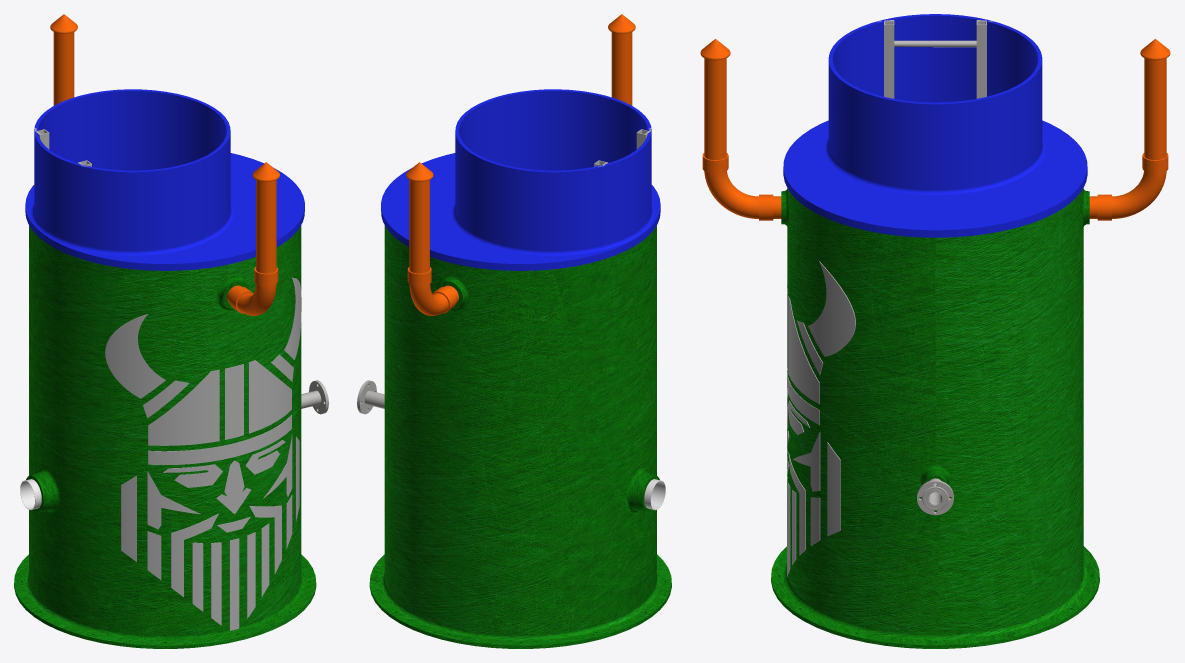
File: ECOWARD-KHC_1400-2700-2.glb
The picture shows the model from 3 angles, left to right: view 1: azimuth 30°, elevation 25°; view 2: azimuth 150°, elevation 25°; view 3: azimuth 270°, elevation 25°; orthographic projection. The views are drawn at different scales.
Visible parts, largest first — view 1: Твердое тело1 (×3), Твердое тело2 (×2), Твердое тело4, Solid1; view 2: Твердое тело1 (×2), Твердое тело2 (×2), Твердое тело4, Solid1; view 3: Твердое тело1 (×4), Твердое тело2 (×2), Твердое тело4 (×2), Solid1.
Part boxes in pixels (x1,y1,x2,y2): Твердое тело1 (×3): (14, 89, 316, 648); Твердое тело2 (×2): (53, 32, 276, 273); Твердое тело4: (229, 267, 278, 315); Solid1: (20, 479, 41, 510); Твердое тело1 (×2): (369, 89, 671, 648); Твердое тело2 (×2): (409, 32, 632, 273); Твердое тело4: (407, 267, 456, 315); Solid1: (644, 479, 665, 510); Твердое тело1 (×4): (771, 14, 1099, 648); Твердое тело2 (×2): (704, 58, 1166, 159); Твердое тело4 (×2): (702, 153, 1168, 220); Solid1: (917, 480, 953, 515).
Size of the model in its own units: 1.79 by 2.91 by 2.29.
Materials: 12 (1 with a texture image).
